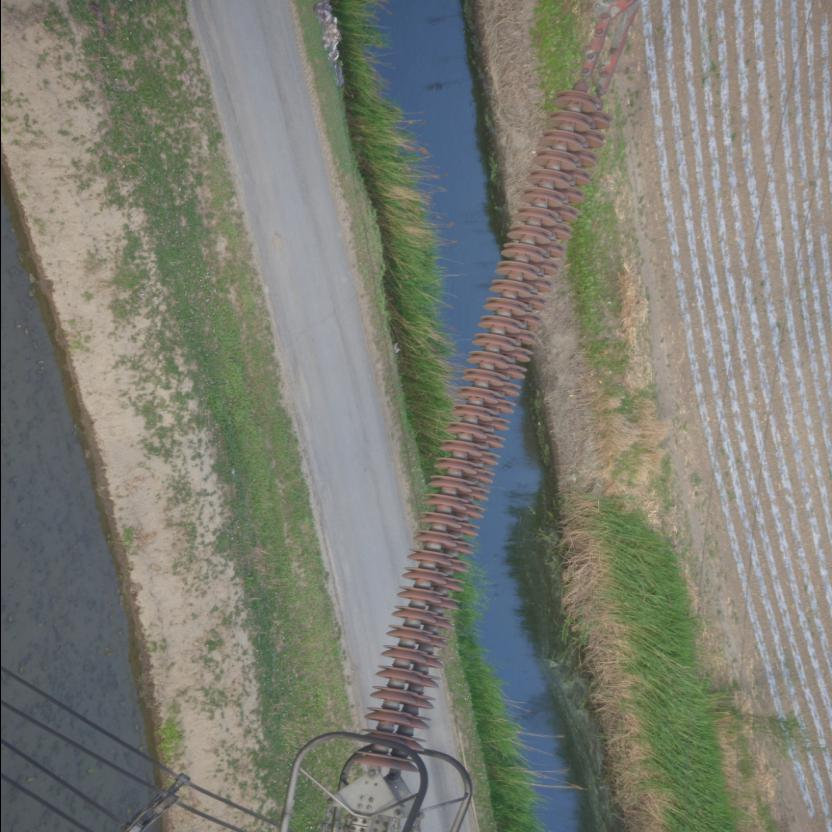insulator: (348, 41, 624, 784)
